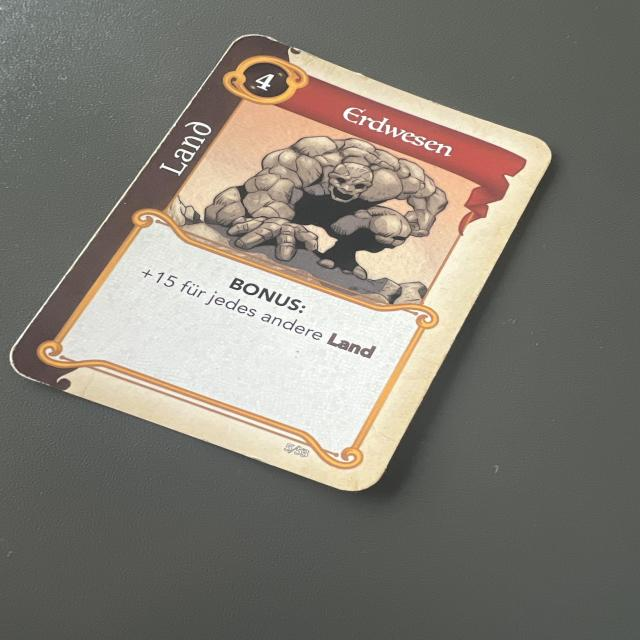Earth Elemental: (1, 29, 561, 495)
